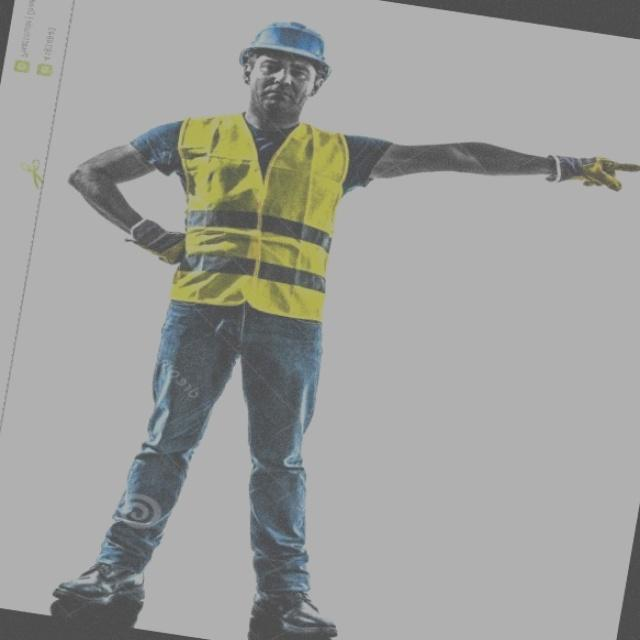Capacete: (240, 22, 330, 77)
Colete: (171, 114, 348, 320)
Pessoa: (54, 23, 639, 639)
